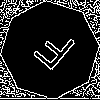F: (25, 25, 78, 80)
